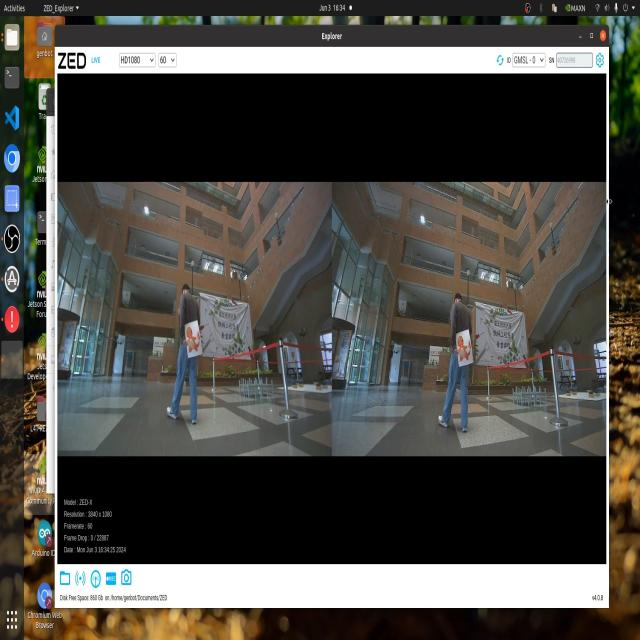red: (182, 322, 201, 354), (457, 335, 471, 370)
